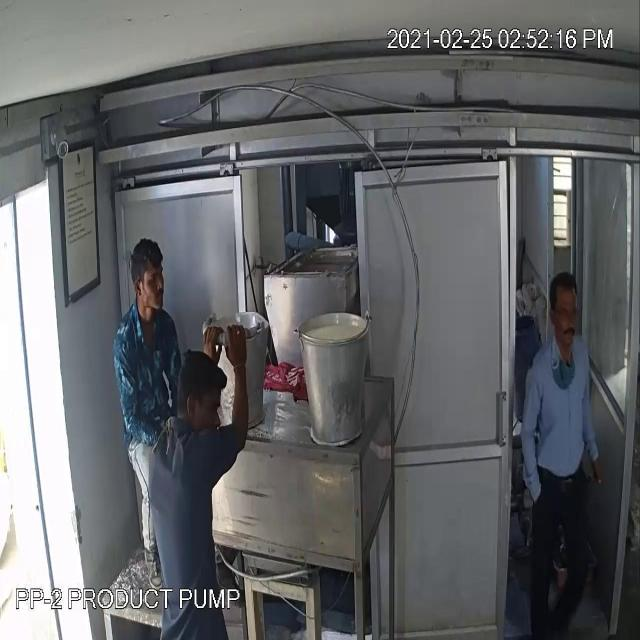no-helmet: (178, 340, 228, 416), (127, 228, 169, 290), (548, 269, 584, 319)
